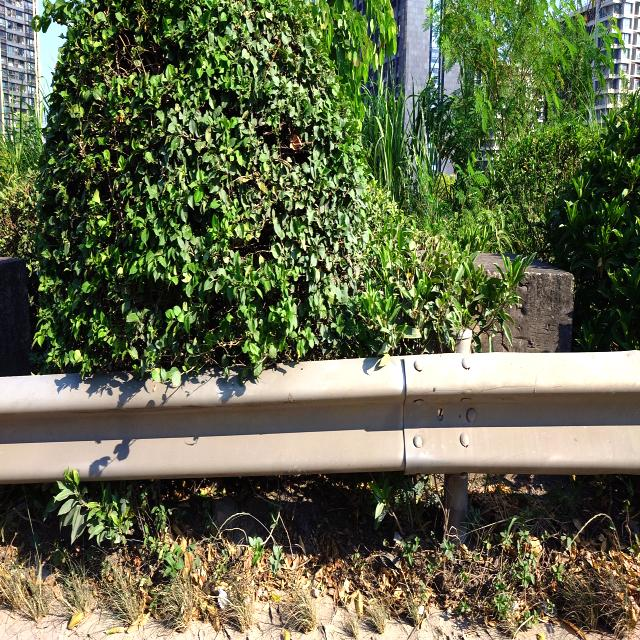Guard rail: (0, 351, 640, 482)
Tree: (0, 0, 640, 384)
